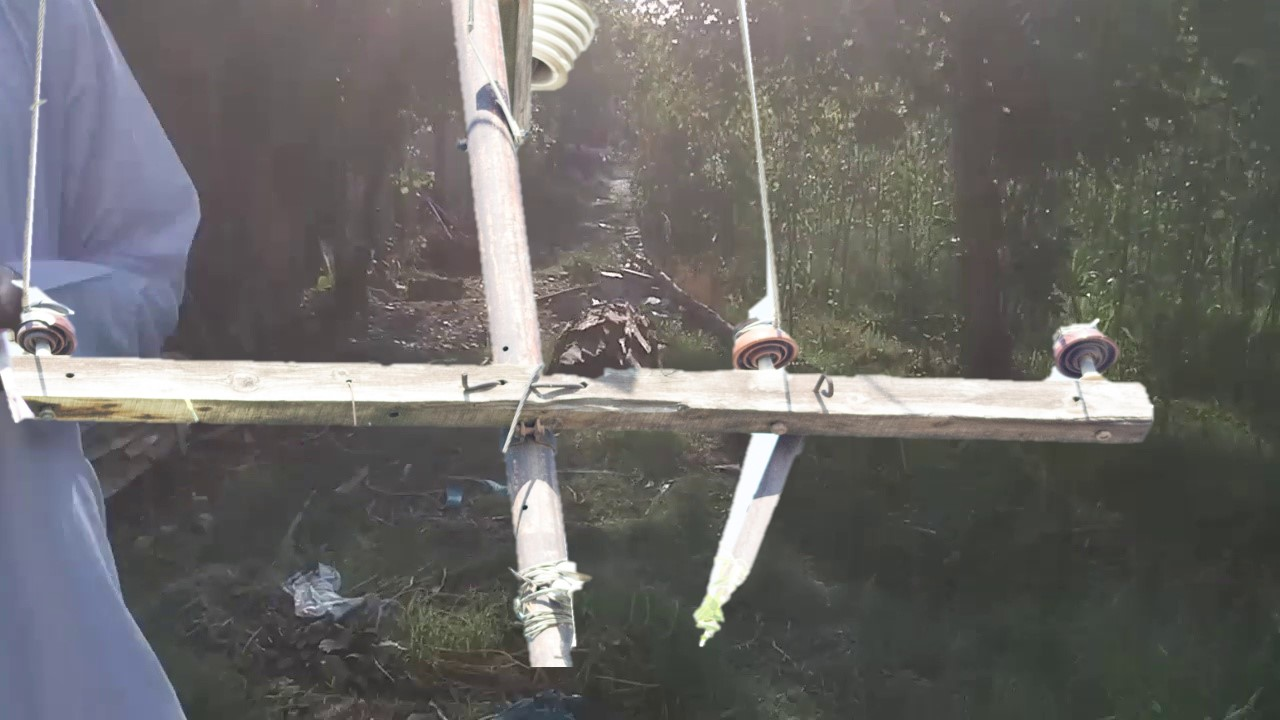defect_pin: (10, 294, 81, 359)
insulator_pin: (1044, 319, 1119, 379), (728, 321, 799, 370)
